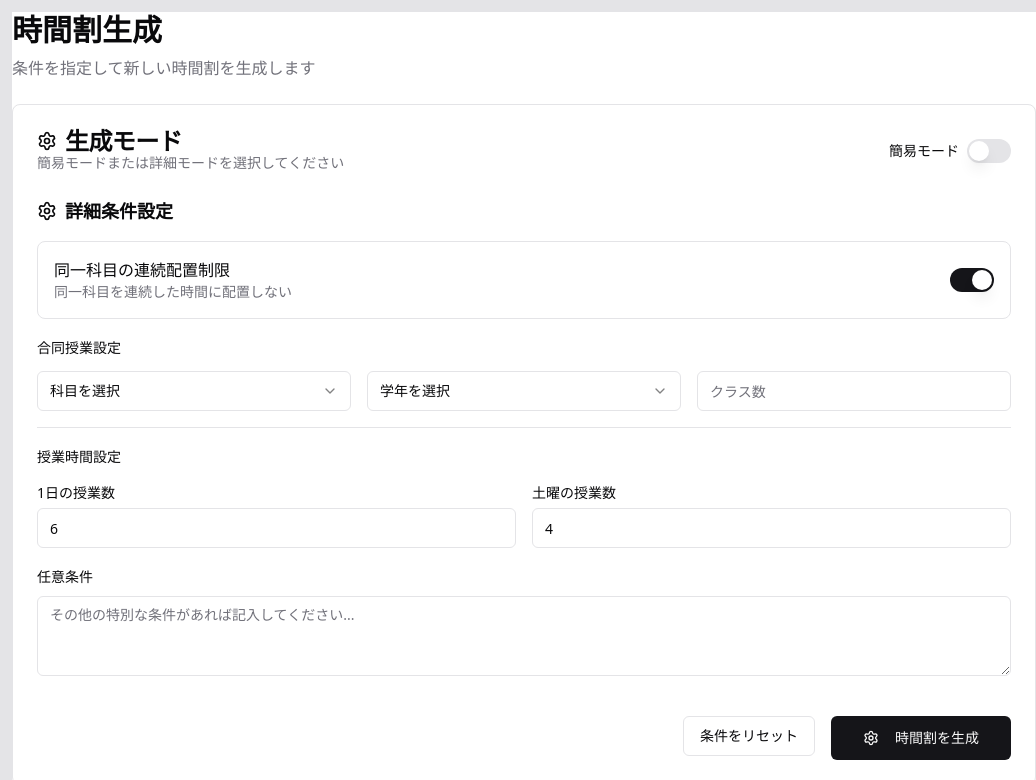
Test: TimetableGenerate › モード切り替えが正しく動作する
Click the switch named "簡易モード" in the row of "簡易モードまたは詳細モードを選択してください". click: (989, 151)
box: [967,139,1011,163]
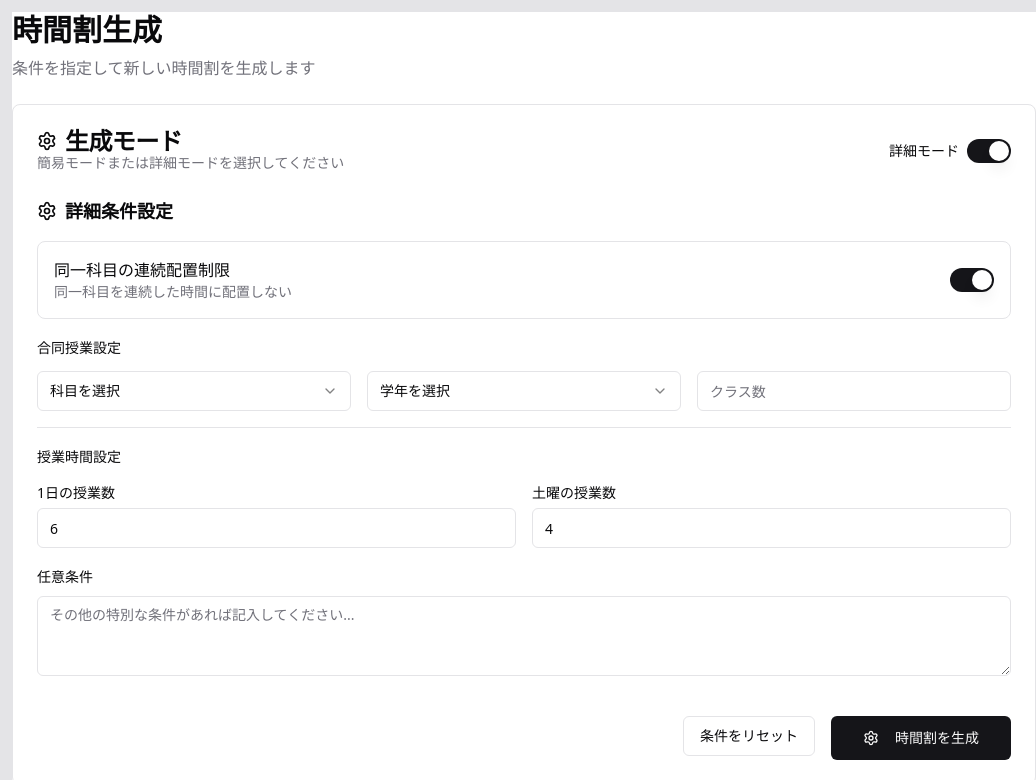
Check: the switch named "簡易モード" in the row of "簡易モードまたは詳細モードを選択してください" is checked, box [967,139,1011,163]
Check: the text "詳細モード" is shown, box [889,141,959,161]
